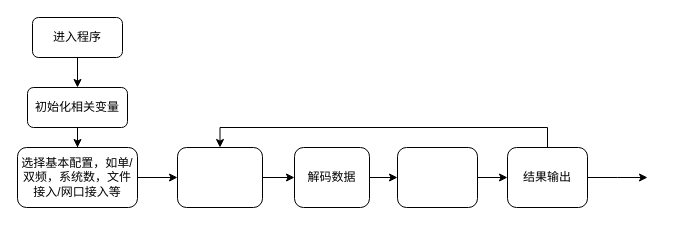
This 673x225 diagram has some shape labels left out. The shapes that lost their labels are listed below. From the top down, each one's centre as x and y in pixels, then its label:
At point 219,177: "读取数据".
At point 437,177: "解算数据".
